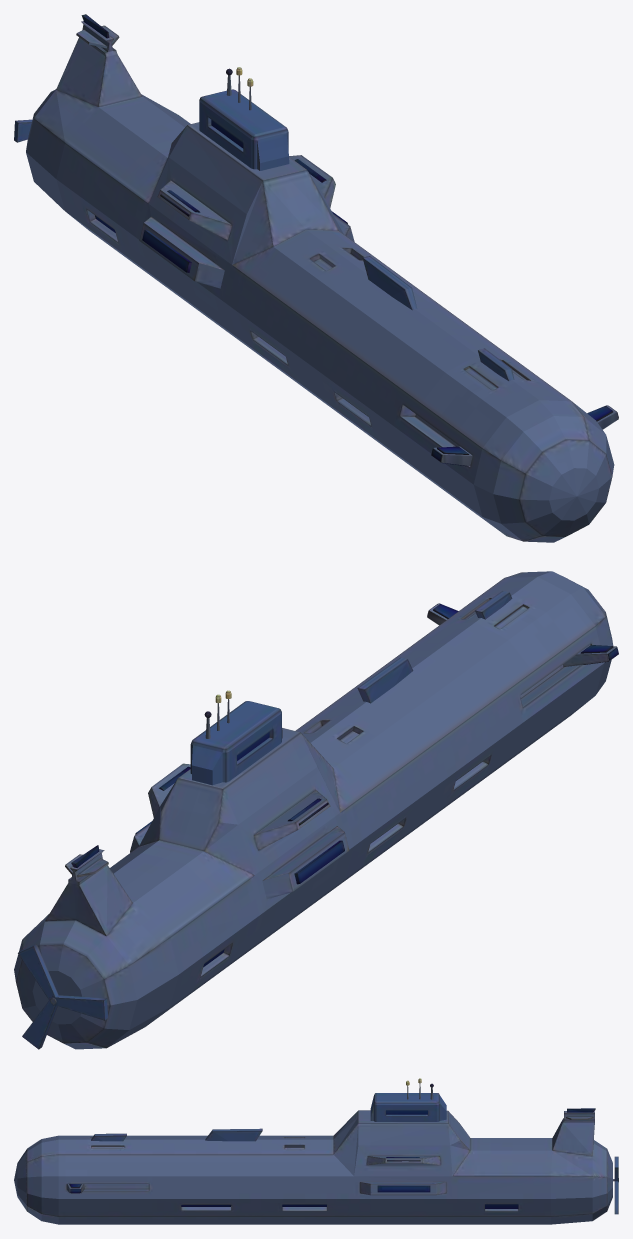
The model's file is submarine.glb.
3 renders of one model, top to bottom at view 1: azimuth 30°, elevation 25°; view 2: azimuth 150°, elevation 25°; view 3: azimuth 270°, elevation 25°, orthographic. The views are drawn at different scales.
Visible parts, largest first — view 1: Node; view 2: Node; view 3: Node.
Part boxes in pixels (left/top/right/bottom): Node: left=14, top=14, right=618, bottom=542; Node: left=14, top=571, right=618, bottom=1049; Node: left=14, top=1078, right=618, bottom=1224.
Size of the model in its own units: 136 by 178 by 677.
1 material, 1 textured.
